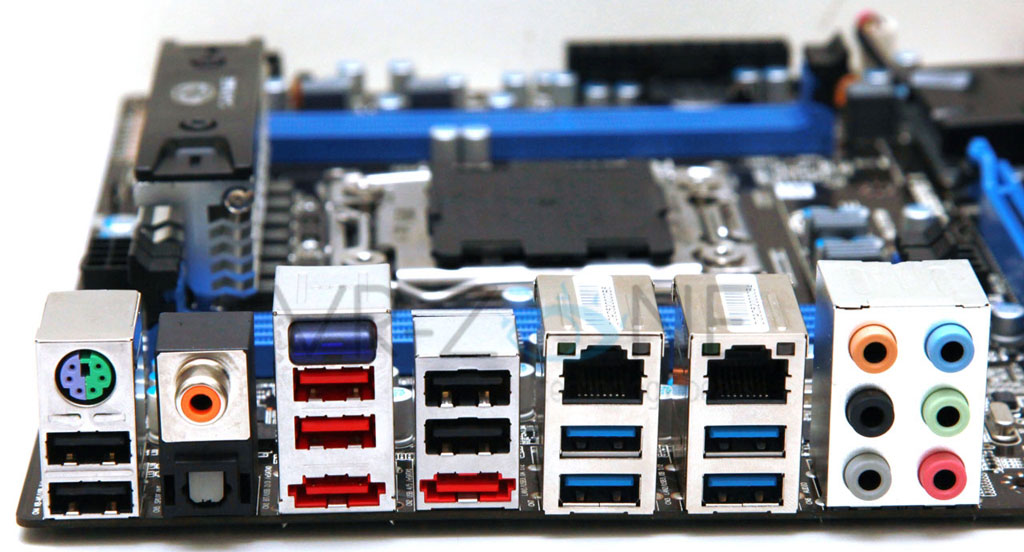Audio: (918, 320, 981, 378), (850, 318, 902, 383), (837, 450, 897, 501), (920, 444, 971, 500), (915, 390, 970, 431)
Ethernet: (694, 336, 797, 408), (552, 339, 653, 412)
USB: (696, 419, 797, 461), (688, 472, 801, 508), (551, 422, 658, 459), (547, 470, 652, 505)
